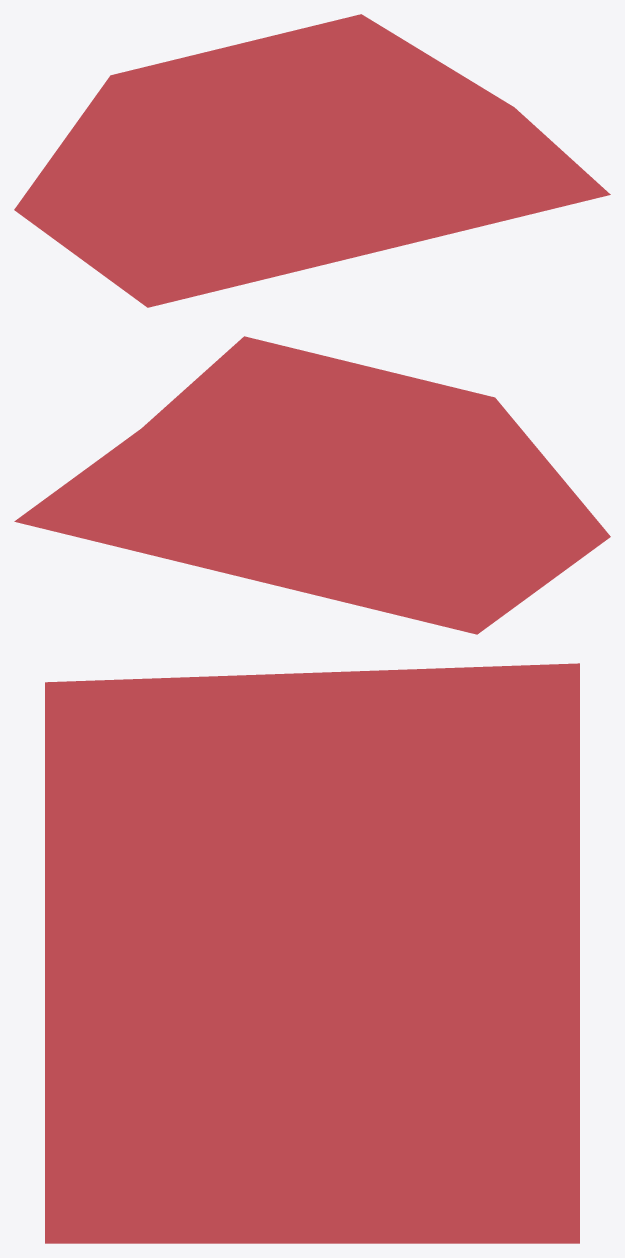
File: gtd-draco.gltf
3 views of the same model, one above another, from view 1: azimuth 30°, elevation 25°; view 2: azimuth 150°, elevation 25°; view 3: azimuth 270°, elevation 25° (orthographic). The views are drawn at different scales.
Bounding box in the file's own units: 2.4 × 0.55 × 1.2.
